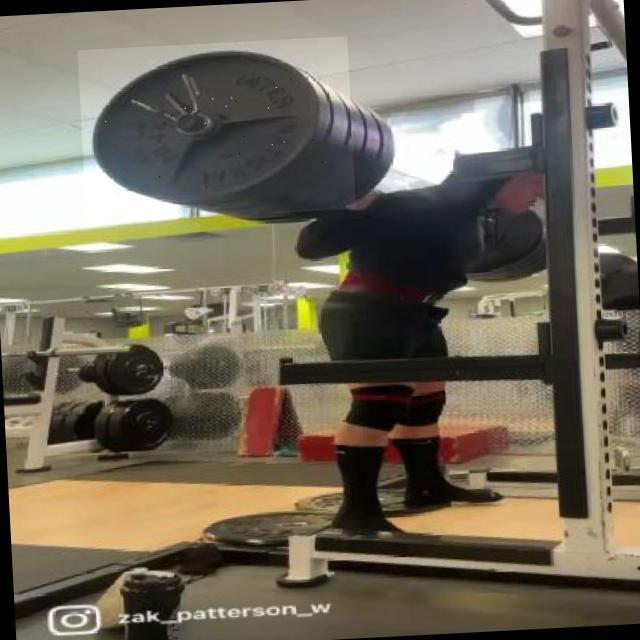barbell: (79, 37, 358, 224)
